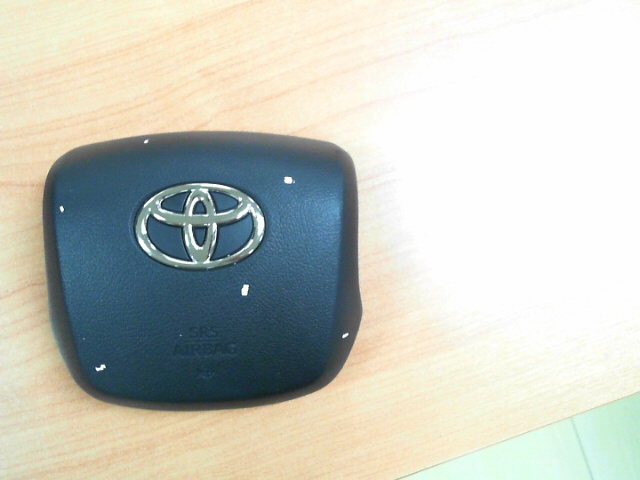Airbag: (241, 284, 250, 297), (283, 176, 295, 185), (96, 364, 106, 372), (58, 204, 65, 214), (342, 332, 349, 339), (144, 138, 149, 146)
